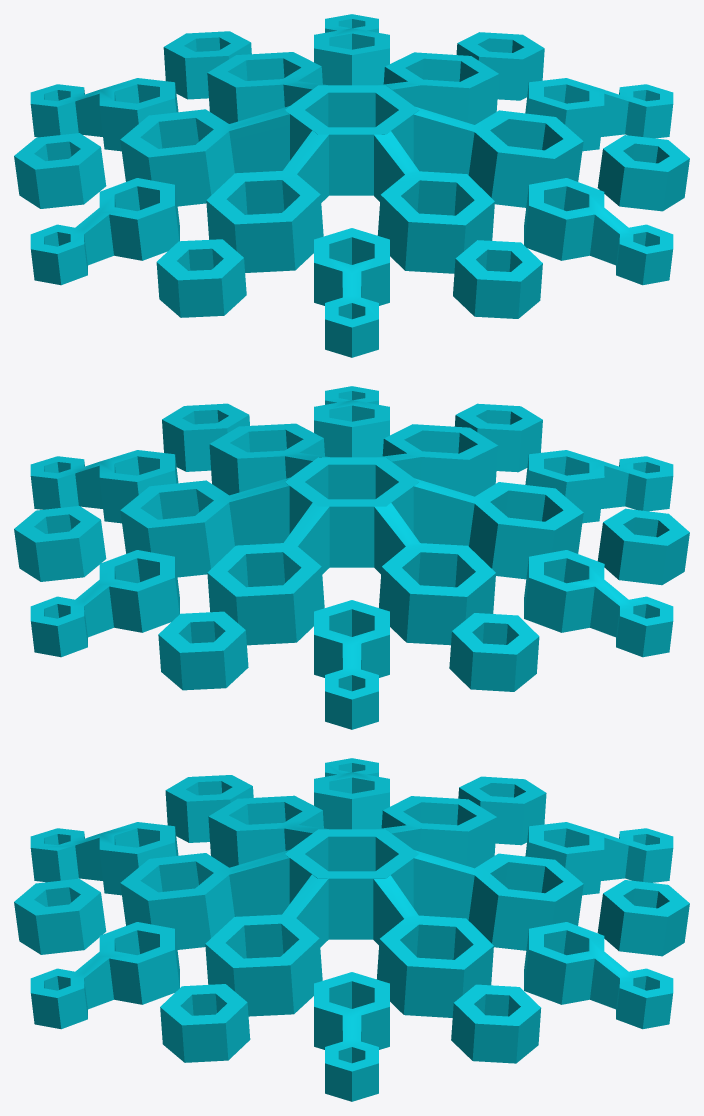
File: Lap-digital.gltf
3 renders of one model, top to bottom at view 1: azimuth 30°, elevation 25°; view 2: azimuth 150°, elevation 25°; view 3: azimuth 270°, elevation 25°, orthographic.
Parts seen in each view (by area): view 1: Cylinder.003, Cylinder.001; view 2: Cylinder.003, Cylinder.001; view 3: Cylinder.003, Cylinder.001.
Boxes of the visible parts, x1,y1,x2,y2 form: Cylinder.003: (14,14,689,357); Cylinder.001: (120,52,583,273); Cylinder.003: (14,386,689,729); Cylinder.001: (120,423,583,645); Cylinder.003: (14,758,689,1101); Cylinder.001: (120,795,583,1017).
Size of the model in its own units: 11 by 1.52 by 10.03.
